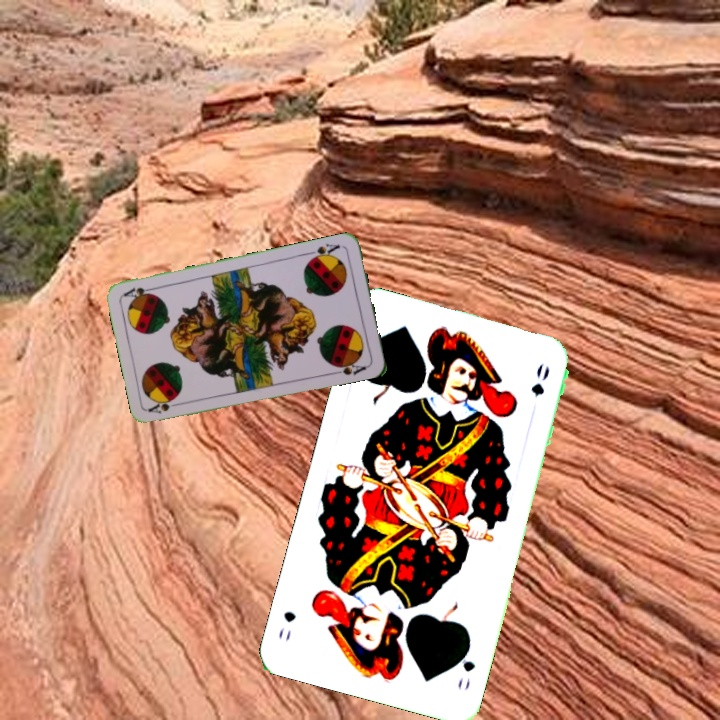GO: (453, 639, 478, 693)
SA: (304, 239, 342, 263), (145, 397, 185, 416)
